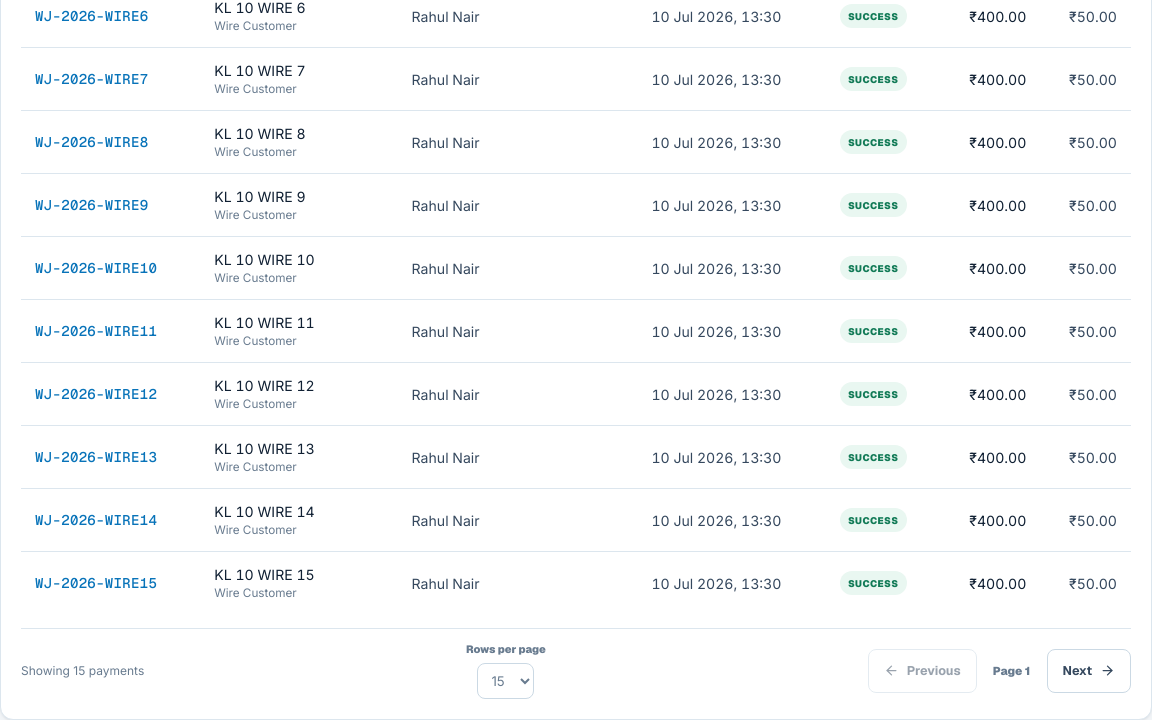
Payments directory — real API envelope contract › disables Next when the API reports no further pages
(page scrolled)
Click the button "Next" at (1089, 671), box [1047,649,1131,693]
(page scrolled)
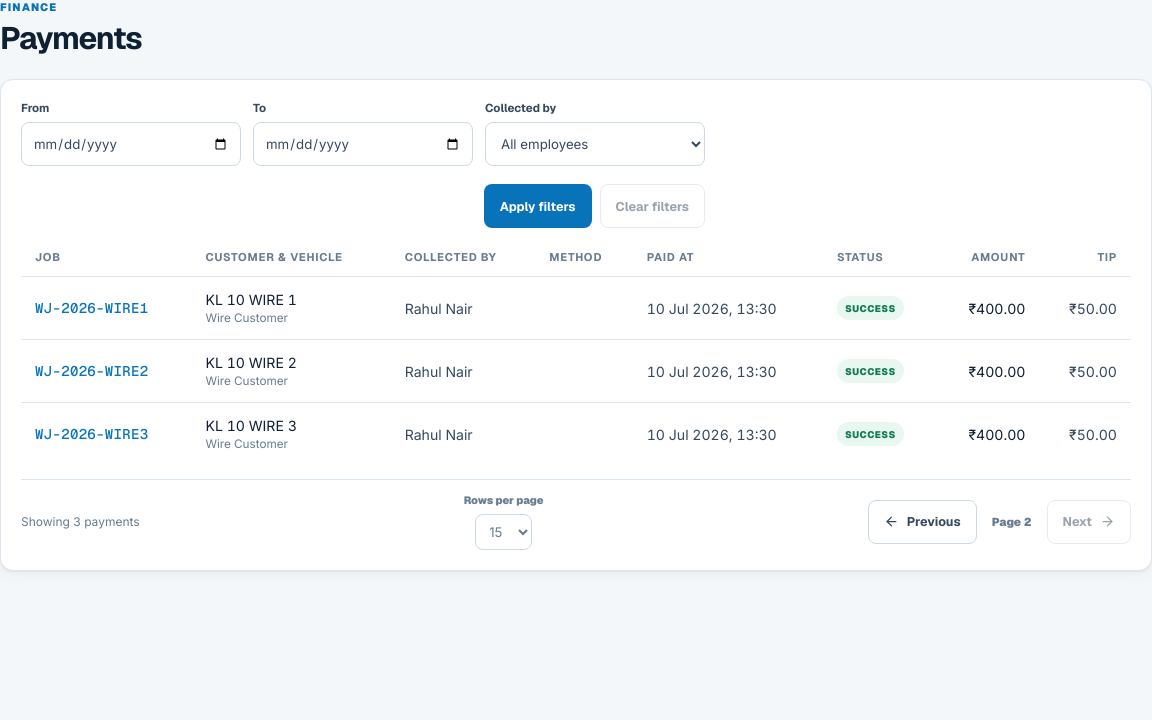
Expected: the text "Showing 3 payments" is shown, [21,514,140,529]
Expected: the text "Page 2" is shown, [992,514,1032,529]
Expected: the button "Next" is disabled, [1047,500,1131,544]
